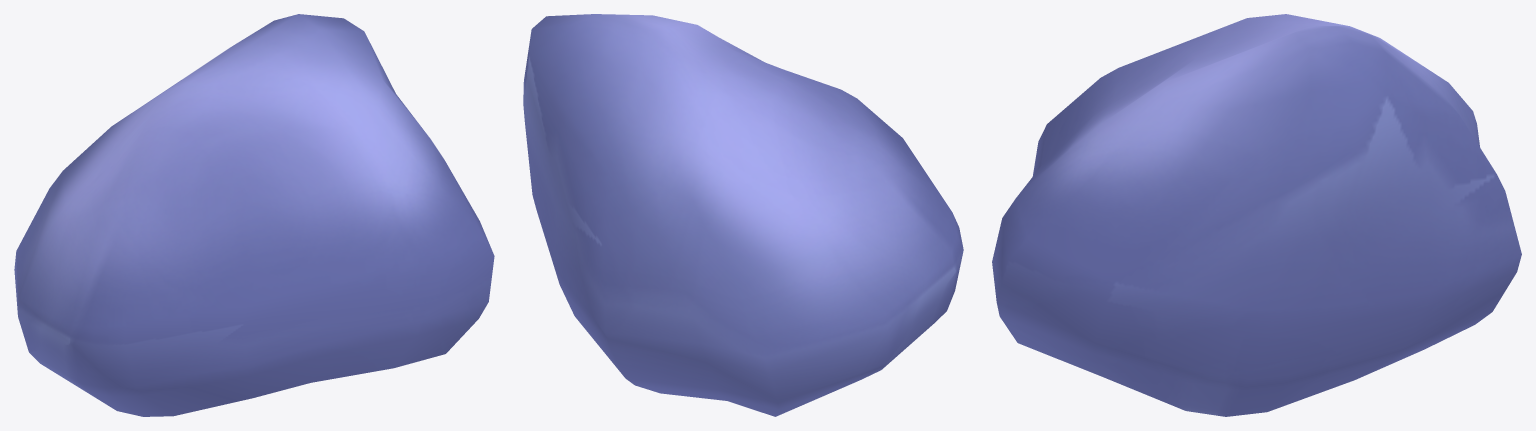
The model's file is Swamp_Rocks_3.glb.
The picture shows the model from 3 angles, left to right: view 1: azimuth 30°, elevation 25°; view 2: azimuth 150°, elevation 25°; view 3: azimuth 270°, elevation 25°; orthographic projection. The views are drawn at different scales.
Parts seen in each view (by area): view 1: Cube.001; view 2: Cube.001; view 3: Cube.001.
Boxes of the visible parts, <box> form: Cube.001: <box>14,14,494,416</box>; Cube.001: <box>523,14,963,416</box>; Cube.001: <box>992,14,1521,416</box>.
Bounding box in the file's own units: 69.99 × 54.03 × 69.8.
1 material, 1 textured.
